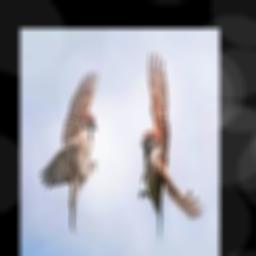Sparrow: (138, 52, 204, 238), (38, 70, 98, 234)
